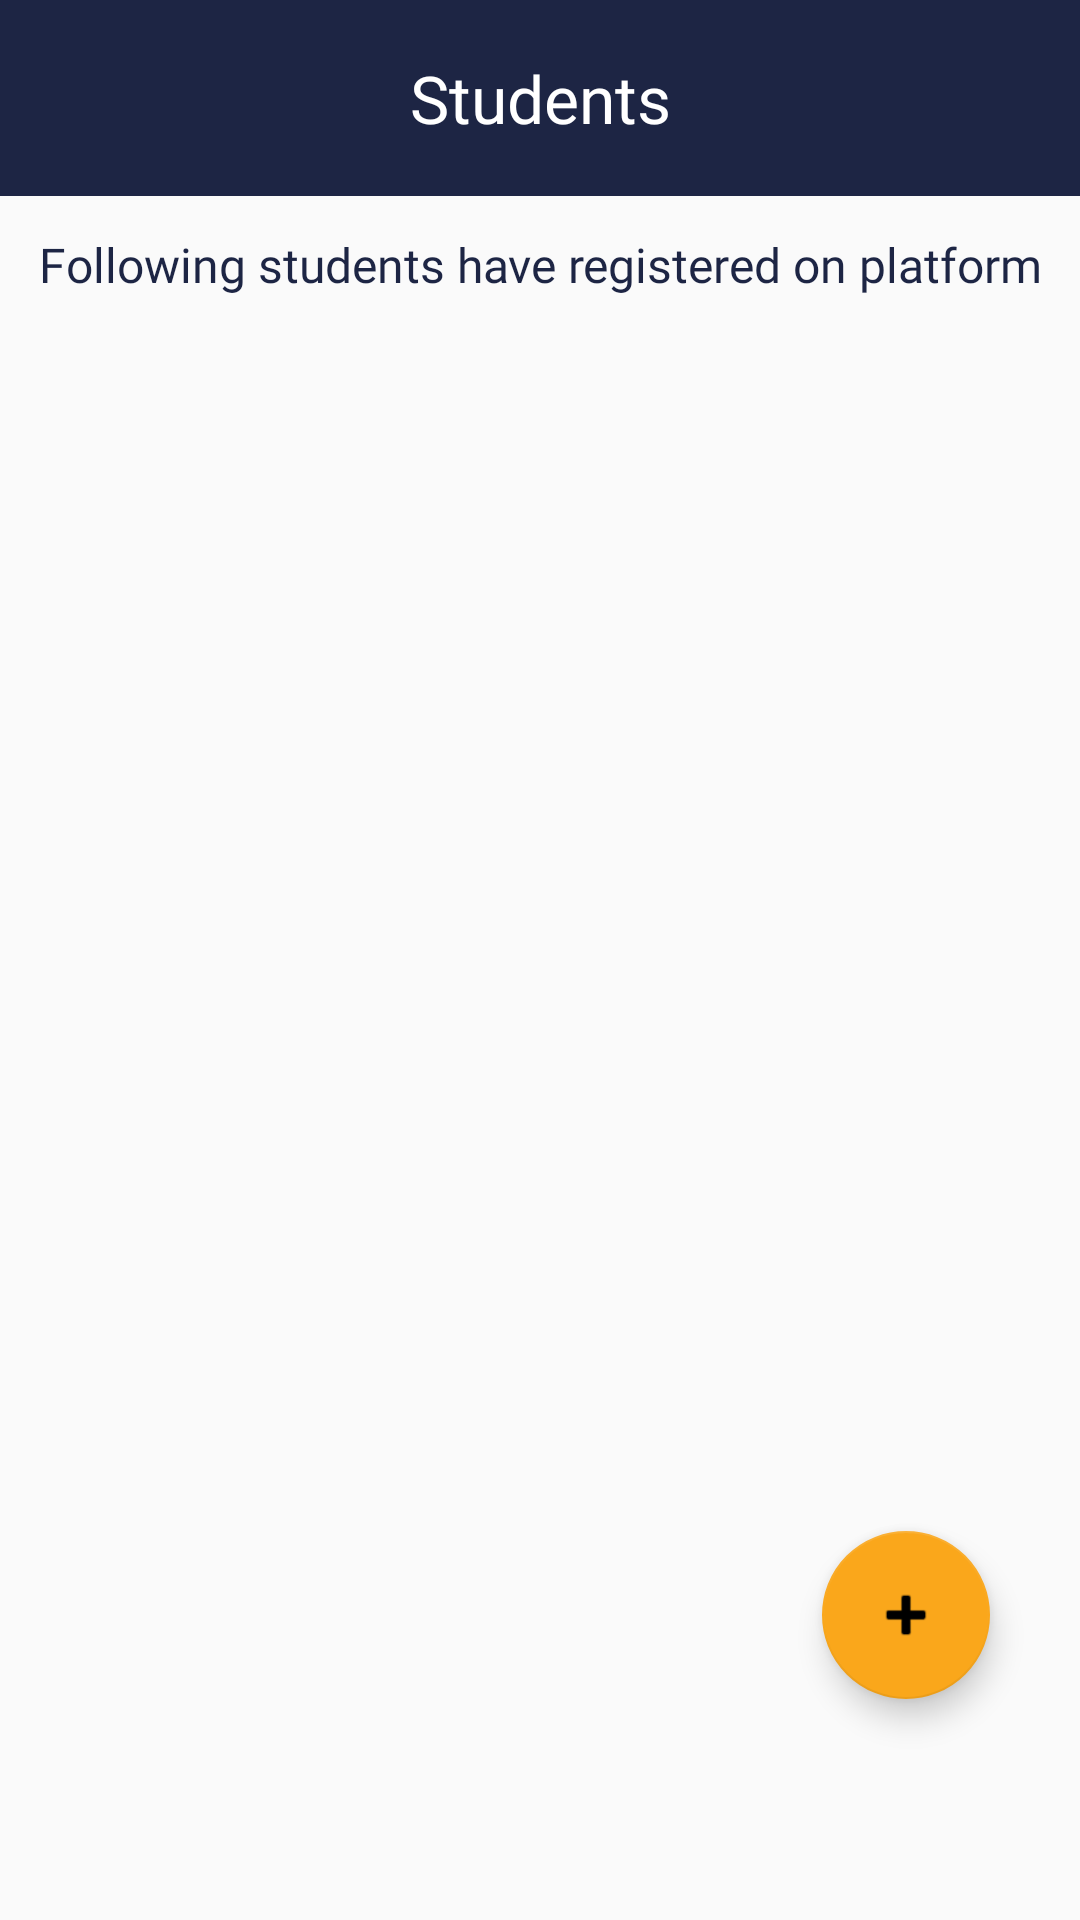

Icon bounding boxes for this 1080w x 1920h phone screenshot, format [x1, y1, x2, y2]:
add: [822, 1531, 990, 1699]
